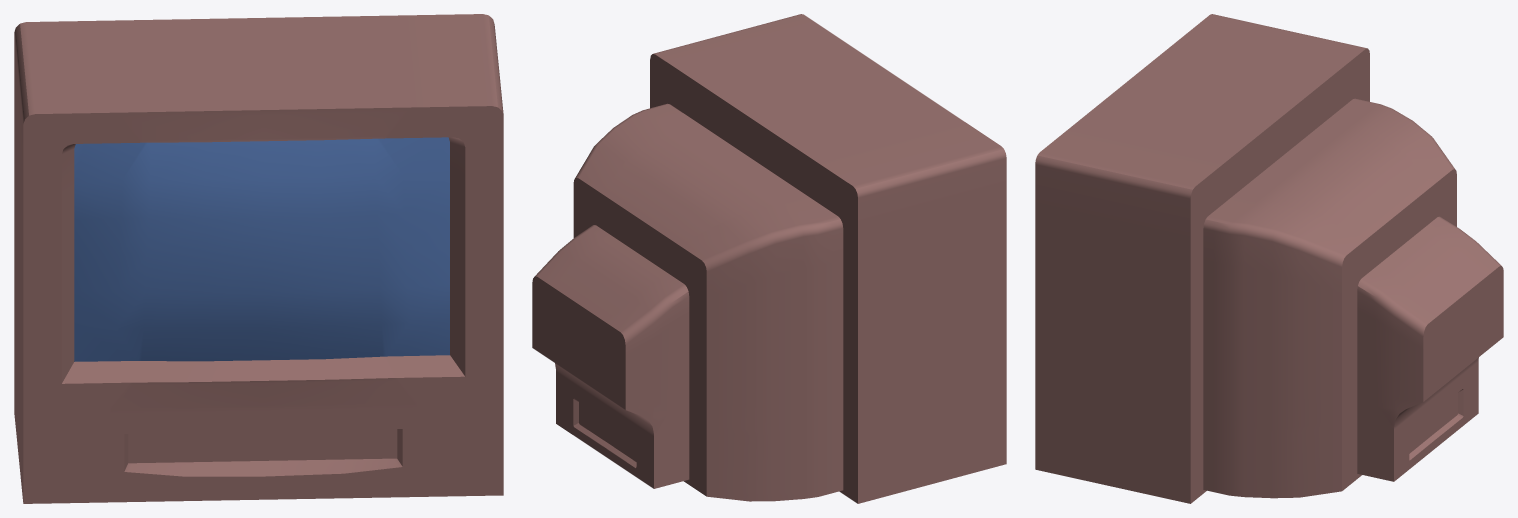
File: tv_withshaders.fbx
The picture shows the model from 3 angles, left to right: view 1: azimuth 30°, elevation 25°; view 2: azimuth 150°, elevation 25°; view 3: azimuth 270°, elevation 25°; orthographic projection. The views are drawn at different scales.
Parts seen in each view (by area): view 1: pCube6; view 2: pCube6; view 3: pCube6.
Boxes of the visible parts, bbox=[...] form: pCube6: bbox=[14, 14, 503, 503]; pCube6: bbox=[532, 14, 1006, 503]; pCube6: bbox=[1035, 14, 1503, 503].
Size of the model in its own units: 5.41 by 4.39 by 5.95.
